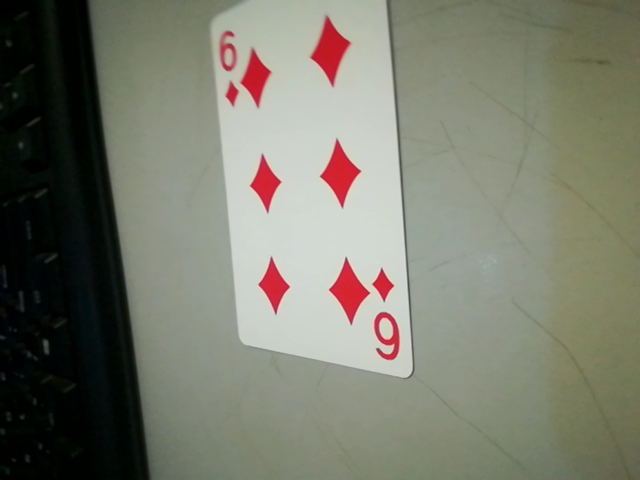fk 6: (360, 263, 410, 376)
